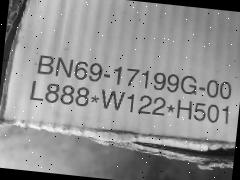paper: (0, 0, 240, 155)
